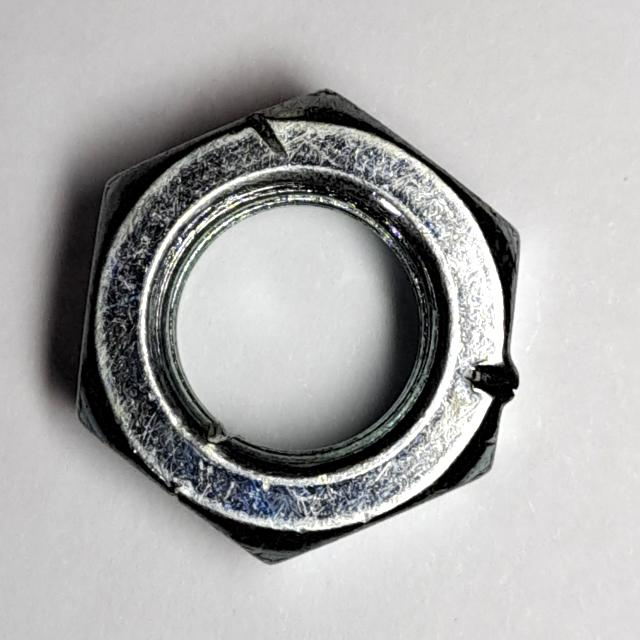Scratches: (72, 74, 535, 575)
